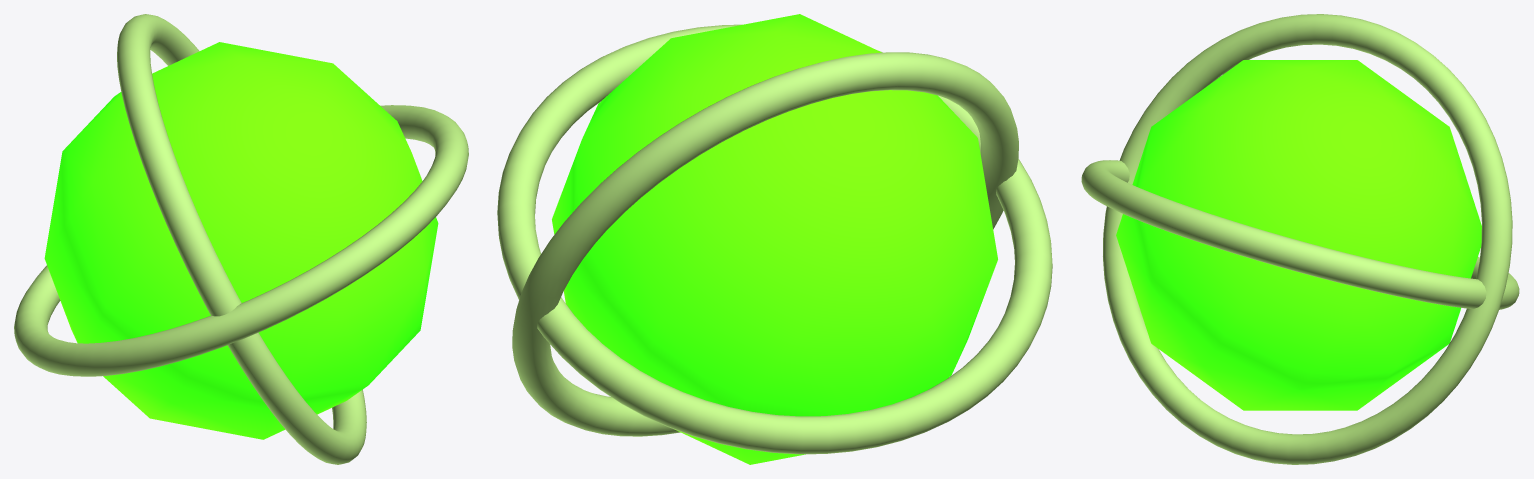
The model's file is pipeline-core.glb.
3 views of the same model, side by side, from view 1: azimuth 30°, elevation 25°; view 2: azimuth 150°, elevation 25°; view 3: azimuth 270°, elevation 25° (orthographic). The views are drawn at different scales.
Parts seen in each view (by area): view 1: HERO_PipelineCore, FX_OrbitRing_A, FX_OrbitRing_B; view 2: HERO_PipelineCore, FX_OrbitRing_A, FX_OrbitRing_B; view 3: HERO_PipelineCore, FX_OrbitRing_B, FX_OrbitRing_A.
Part boxes in pixels (x1,y1,x2,y2): HERO_PipelineCore: [44, 42, 438, 439]; FX_OrbitRing_A: [14, 105, 468, 376]; FX_OrbitRing_B: [117, 14, 366, 464]; HERO_PipelineCore: [552, 14, 997, 464]; FX_OrbitRing_A: [497, 24, 1052, 454]; FX_OrbitRing_B: [512, 52, 1018, 436]; HERO_PipelineCore: [1116, 60, 1481, 410]; FX_OrbitRing_B: [1103, 14, 1512, 464]; FX_OrbitRing_A: [1081, 160, 1519, 309].
Bounding box in the file's own units: 3.37 × 3.15 × 3.42.
